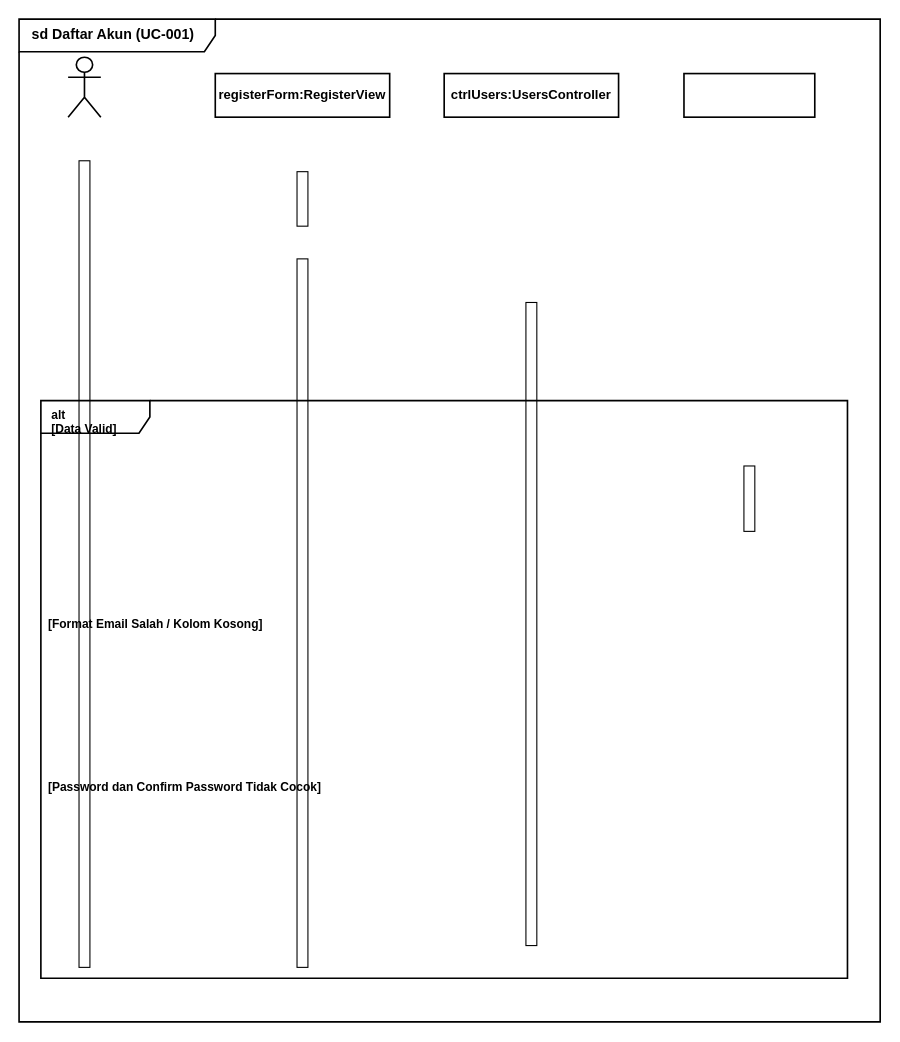
Some shapes in this 900 by 1042 pixel diagram are drawn without their labels. The shapes that lost their labels are listed below. From the top down, each one's centre as x and y in pixels, then its label:
point (84, 87): Pengguna
point (749, 95): db:DataBase
